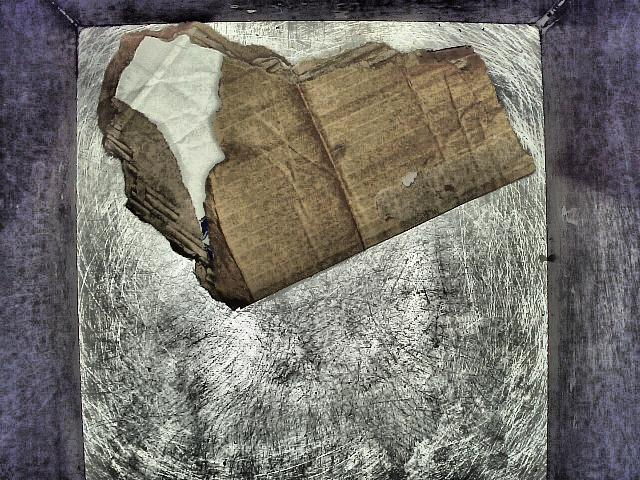Paper: (102, 17, 537, 343)
